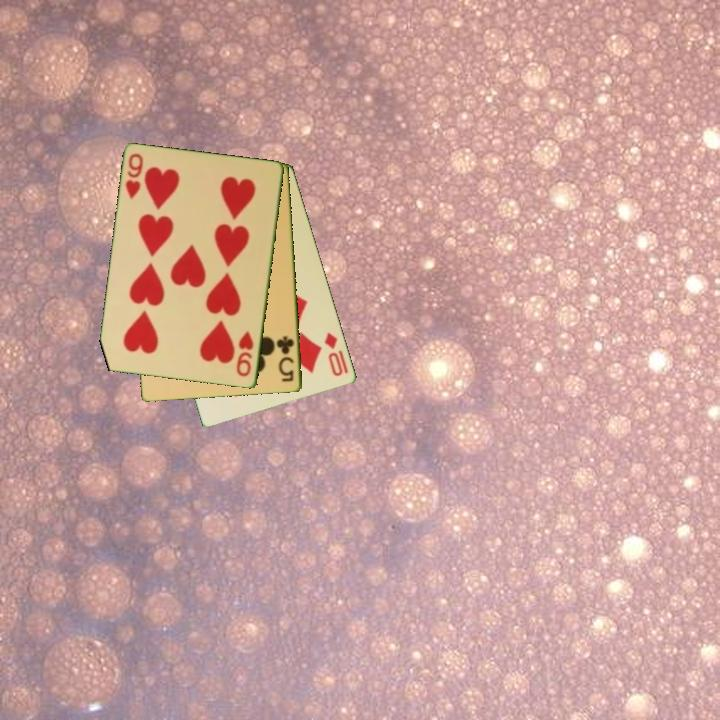10d: (321, 329, 351, 379)
5c: (273, 332, 297, 385)
9h: (233, 328, 257, 380), (122, 150, 146, 202)
